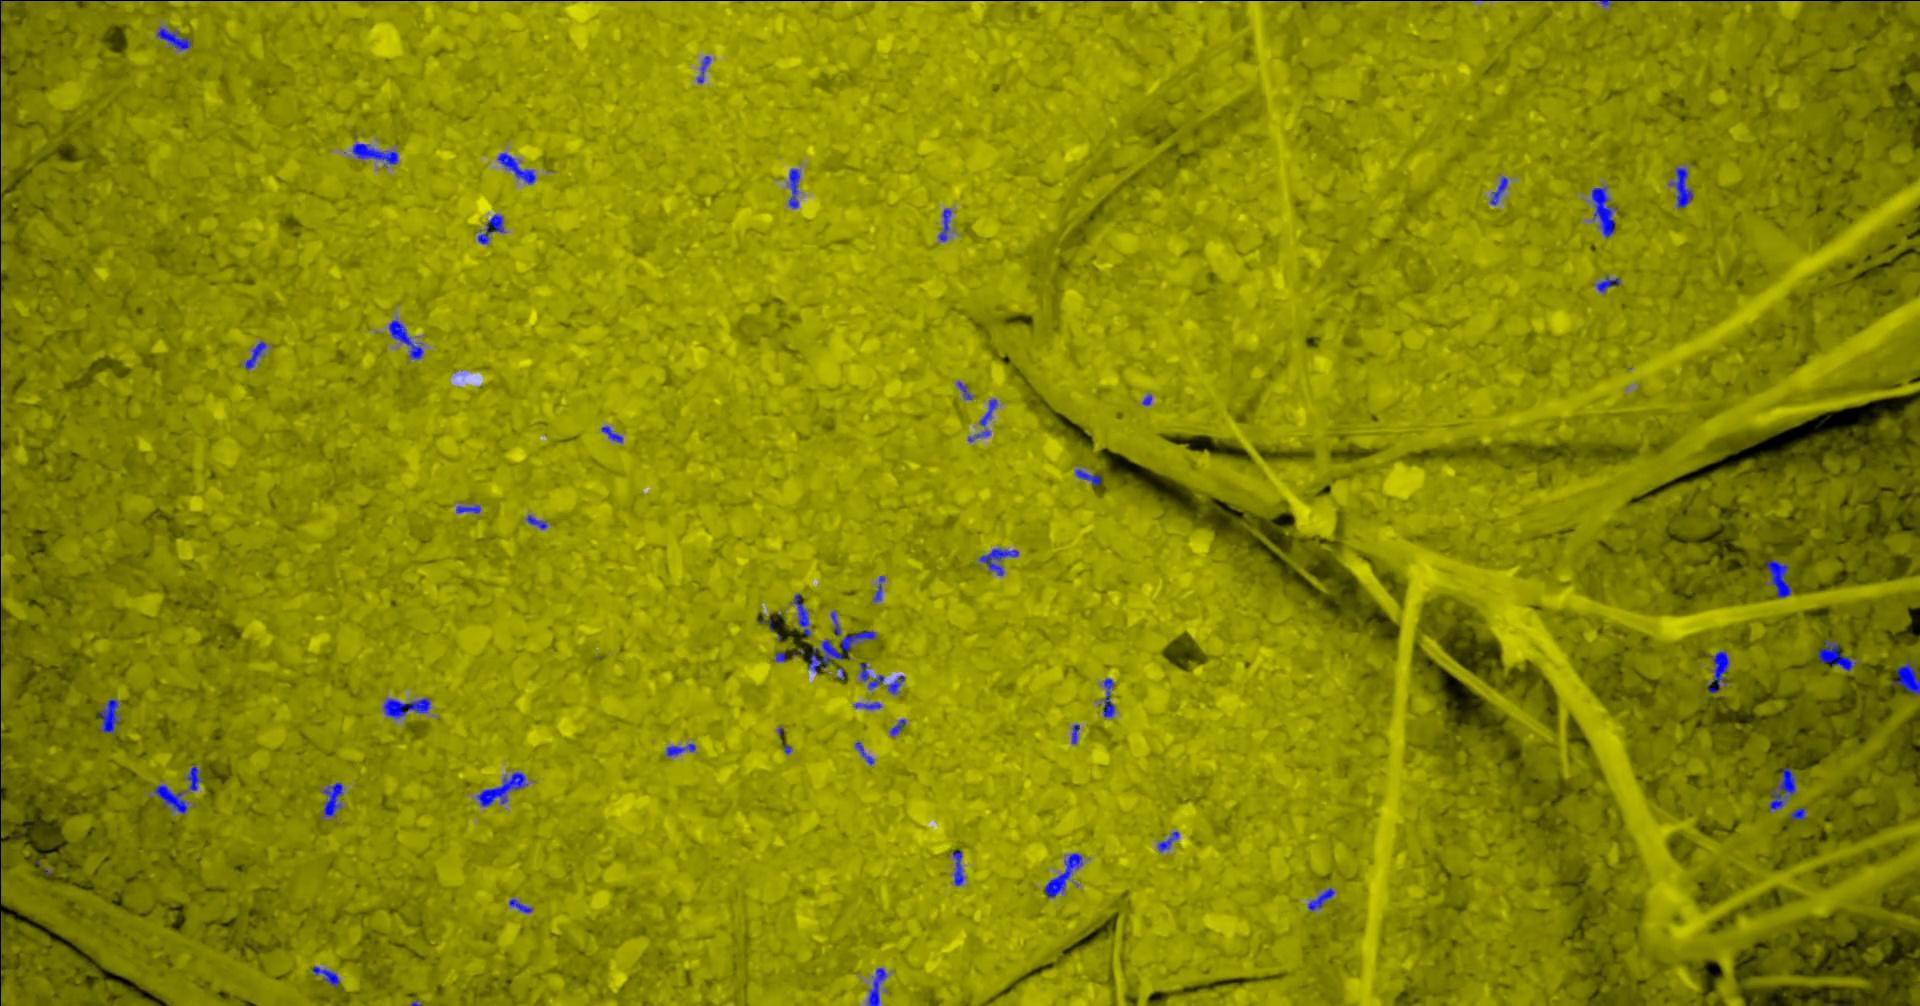ant: (808, 630, 876, 673), (475, 771, 527, 807), (1043, 852, 1082, 897), (389, 319, 423, 358), (1591, 185, 1617, 238), (497, 152, 535, 184), (1817, 639, 1855, 671), (1768, 767, 1796, 810), (978, 547, 1018, 575), (350, 144, 397, 166), (152, 784, 187, 814), (1891, 658, 1919, 695), (1667, 166, 1691, 207), (1765, 559, 1790, 597), (383, 697, 430, 718), (1708, 650, 1730, 694), (156, 25, 190, 50), (477, 213, 504, 243), (866, 967, 886, 1005), (792, 593, 810, 636), (98, 699, 119, 733), (321, 782, 342, 815), (858, 662, 883, 688), (1307, 887, 1335, 909), (244, 340, 265, 370), (312, 967, 339, 987), (1490, 175, 1507, 205), (978, 399, 997, 426), (1074, 467, 1100, 486), (937, 207, 951, 241), (787, 168, 799, 208), (1156, 831, 1178, 851), (1102, 677, 1114, 716), (855, 741, 872, 765), (1595, 276, 1620, 292), (696, 55, 710, 83), (664, 743, 695, 756), (187, 763, 201, 790), (508, 898, 532, 913), (952, 850, 963, 885), (601, 426, 622, 442), (886, 674, 904, 694), (526, 514, 547, 528), (872, 575, 884, 601), (889, 719, 905, 735), (830, 610, 841, 635), (957, 381, 971, 399), (968, 431, 990, 441), (1789, 807, 1806, 821), (455, 504, 480, 513), (853, 701, 881, 709), (1070, 724, 1079, 743), (775, 649, 785, 661), (0, 729, 1, 786)
